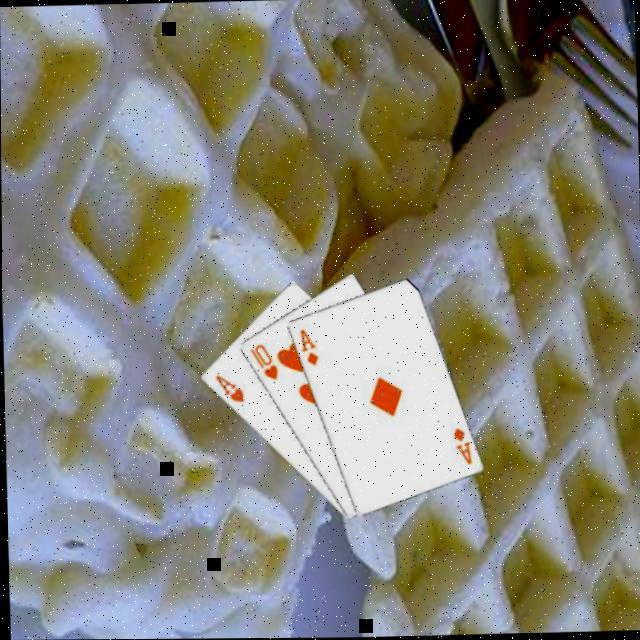10H: (247, 338, 281, 381)
AD: (449, 423, 474, 466), (297, 324, 321, 366)
AH: (212, 369, 247, 404)
